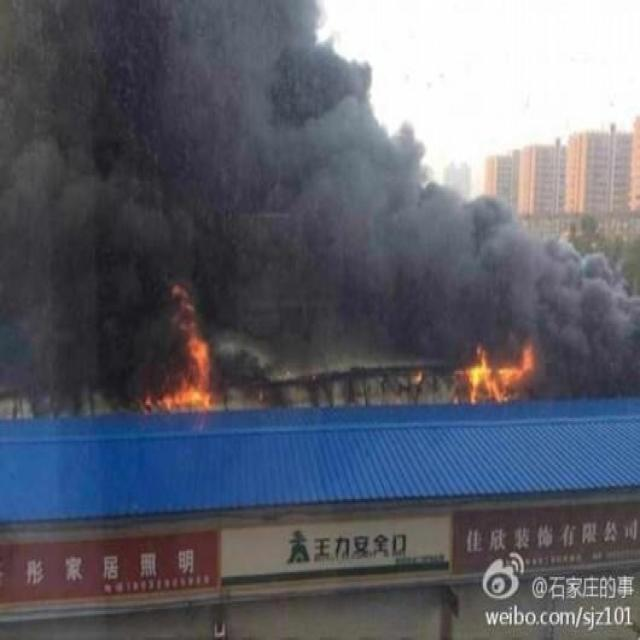Fire: (142, 284, 212, 408), (464, 340, 536, 405)
Smoke: (1, 1, 640, 408)
